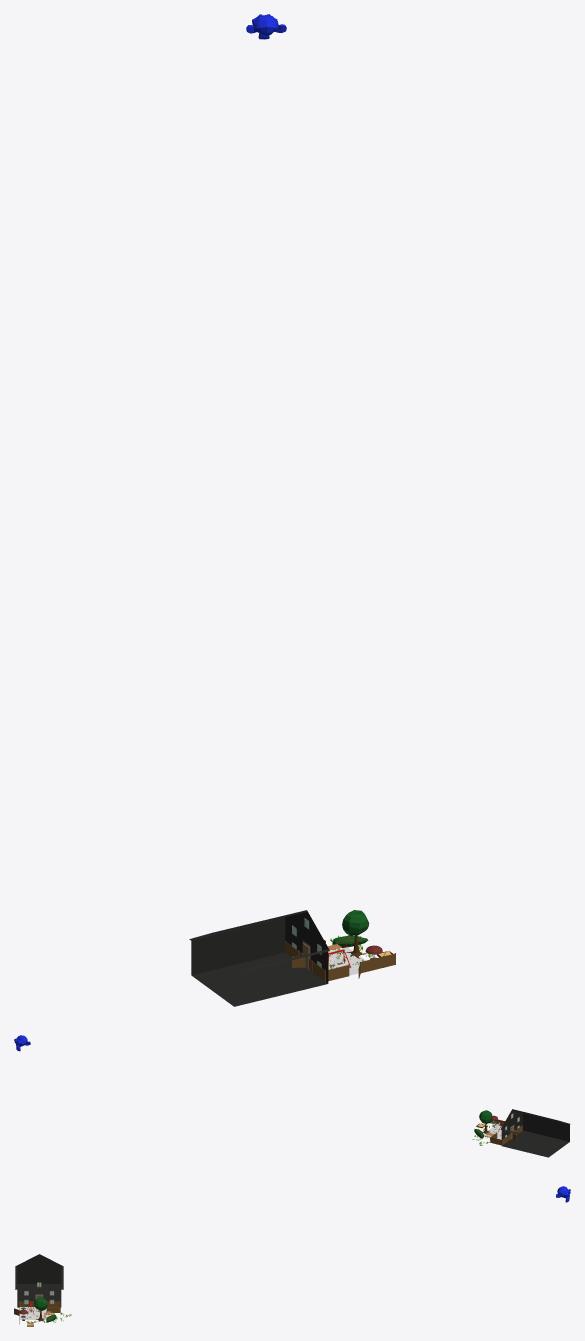
The model's file is Have 1.fbx.
3 renders of one model, top to bottom at view 1: azimuth 30°, elevation 25°; view 2: azimuth 150°, elevation 25°; view 3: azimuth 270°, elevation 25°, orthographic. The views are drawn at different scales.
Visible parts, largest first — view 1: Hus; view 2: Hus; view 3: Hus, Plane.002.
Boxes of the visible parts, <box> form: Hus: <box>189,910,329,1006</box>; Hus: <box>500,1109,570,1157</box>; Hus: <box>15,1254,63,1309</box>; Plane.002: <box>19,1307,50,1319</box>.
Size of what is drawn, in the model's own units: 4445 by 3410 by 7231.
